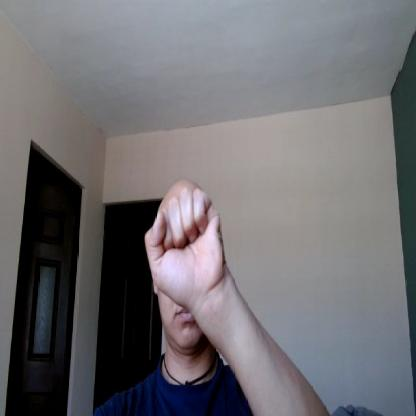S: (143, 186, 226, 309)
